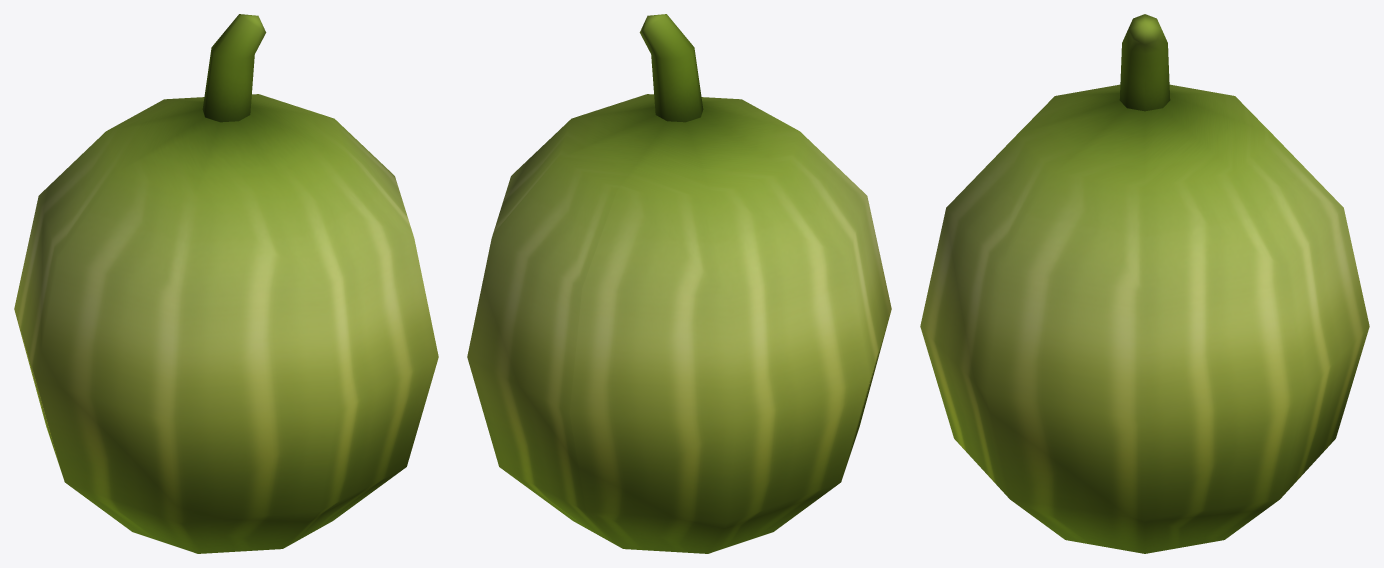
The model's file is Gooseberry_Green.fbx.
The picture shows the model from 3 angles, left to right: view 1: azimuth 30°, elevation 25°; view 2: azimuth 150°, elevation 25°; view 3: azimuth 270°, elevation 25°; orthographic projection. The views are drawn at different scales.
Parts seen in each view (by area): view 1: Gooseberry_Green; view 2: Gooseberry_Green; view 3: Gooseberry_Green.
Part boxes in pixels (x1,y1,x2,y2): Gooseberry_Green: (14, 14, 438, 553); Gooseberry_Green: (467, 14, 891, 553); Gooseberry_Green: (920, 14, 1369, 553).
Size of the model in its own units: 12.24 by 15.83 by 12.24.
1 material, 1 textured.
